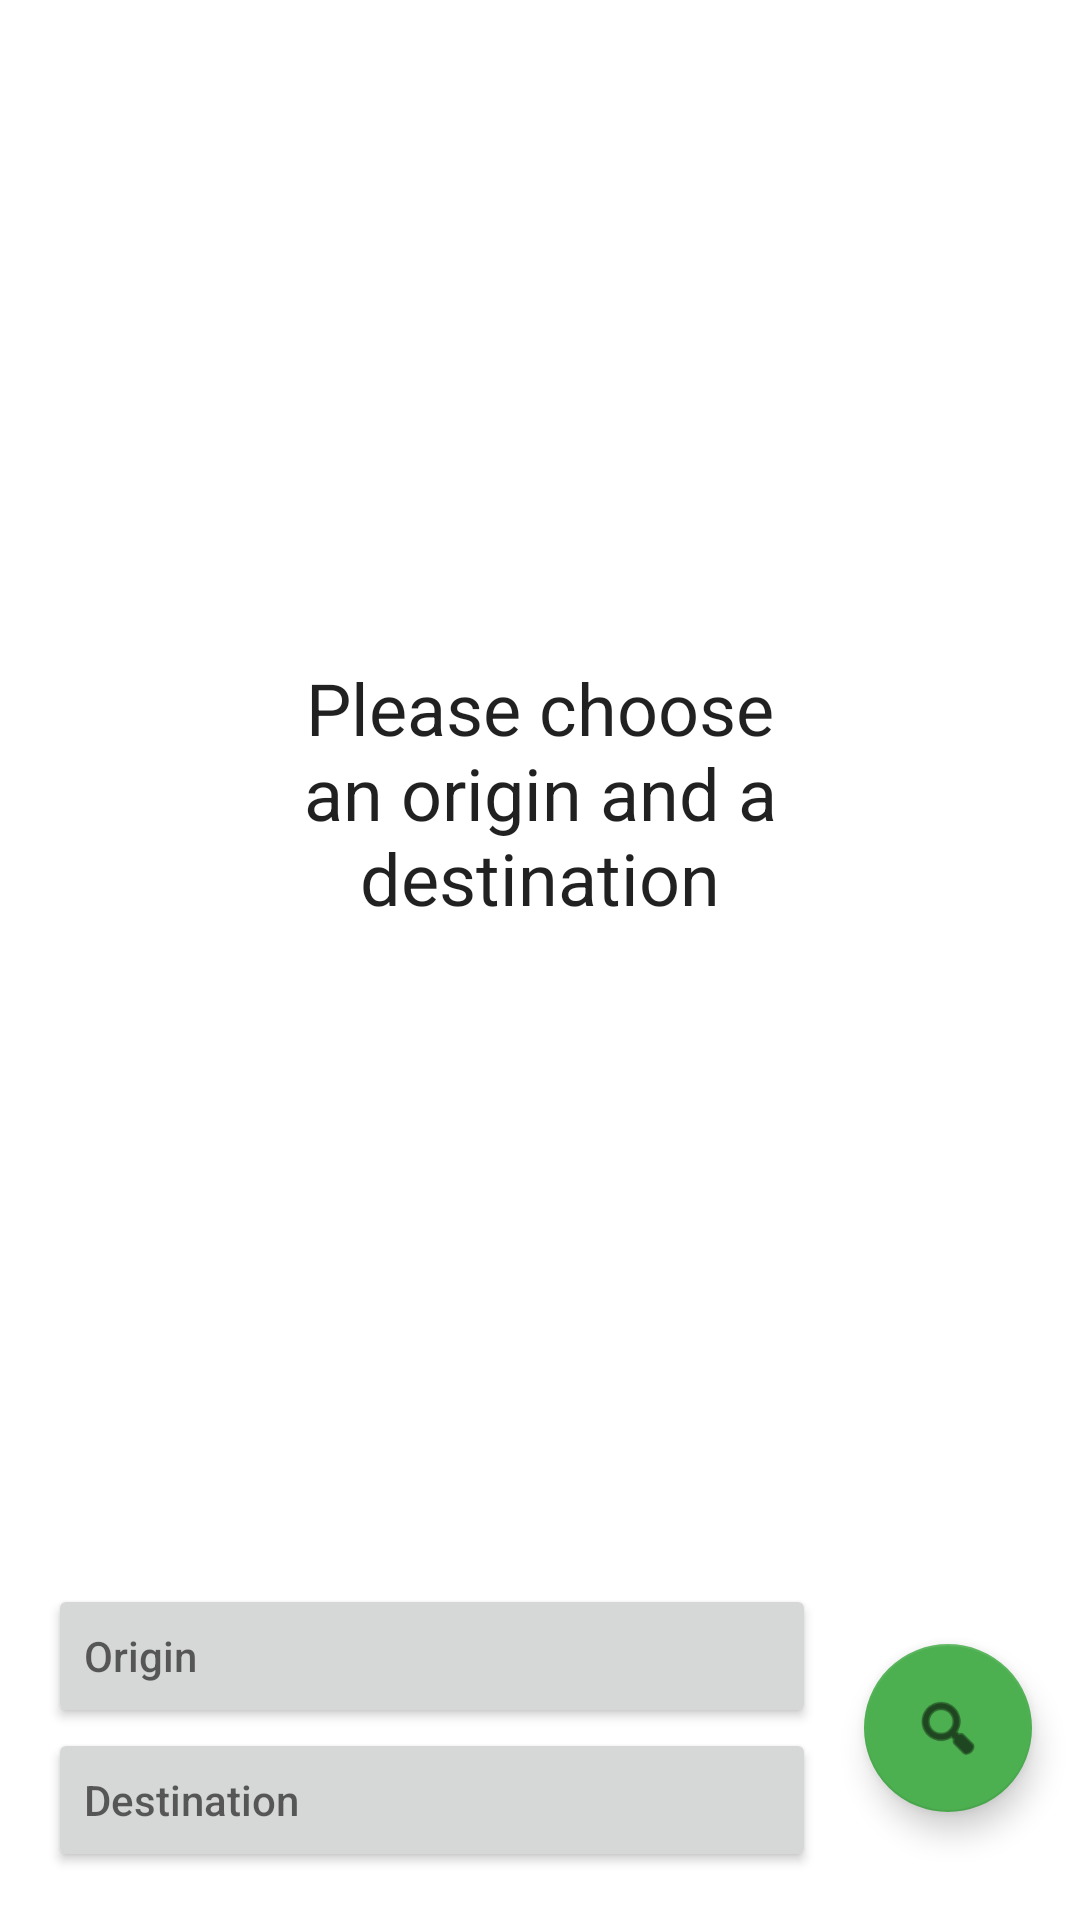

Named icons in this screenshot (1080×1920) and their centers, (x,y):
Search: (948,1728)
